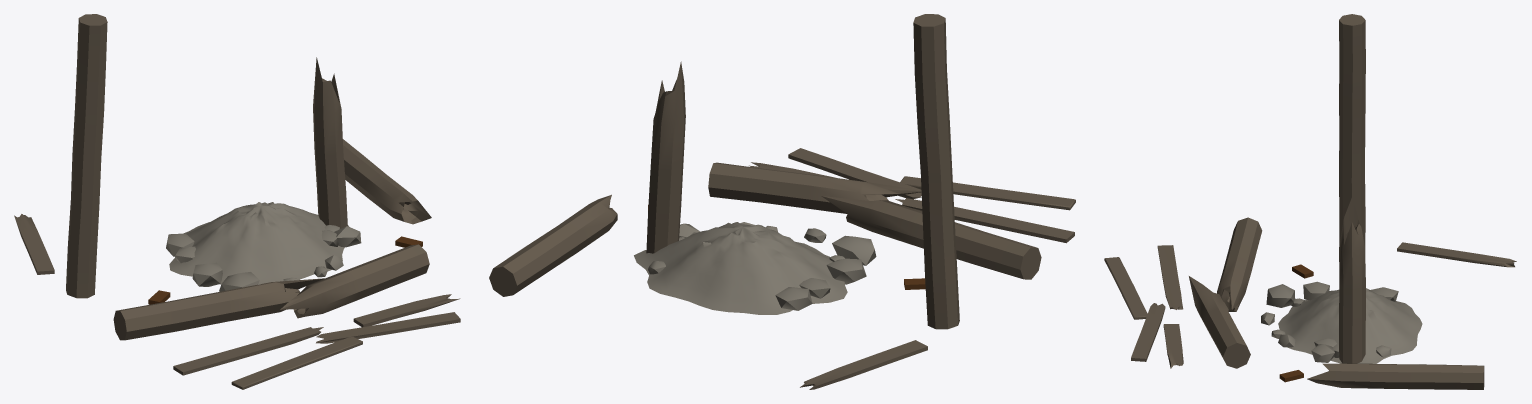
File: stuetzbalken_kaputt.glb
3 views of the same model, side by side, from view 1: azimuth 30°, elevation 25°; view 2: azimuth 150°, elevation 25°; view 3: azimuth 270°, elevation 25° (orthographic). The views are drawn at different scales.
Visible parts, largest first — view 1: stuetzbalken_kaputt; view 2: stuetzbalken_kaputt; view 3: stuetzbalken_kaputt.
Part boxes in pixels (left/top/right/bottom): stuetzbalken_kaputt: left=14, top=14, right=460, bottom=389; stuetzbalken_kaputt: left=489, top=14, right=1075, bottom=389; stuetzbalken_kaputt: left=1104, top=14, right=1516, bottom=389.
Bounding box in the file's own units: 3.28 × 2.44 × 3.76.
